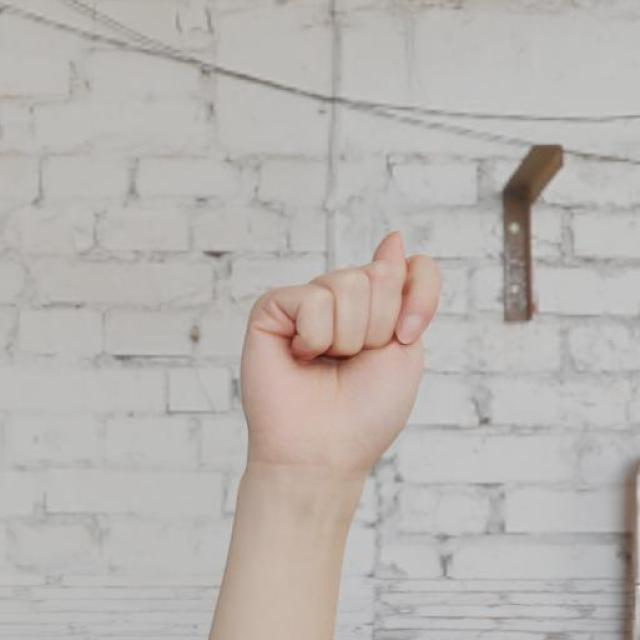T: (231, 224, 448, 490)
